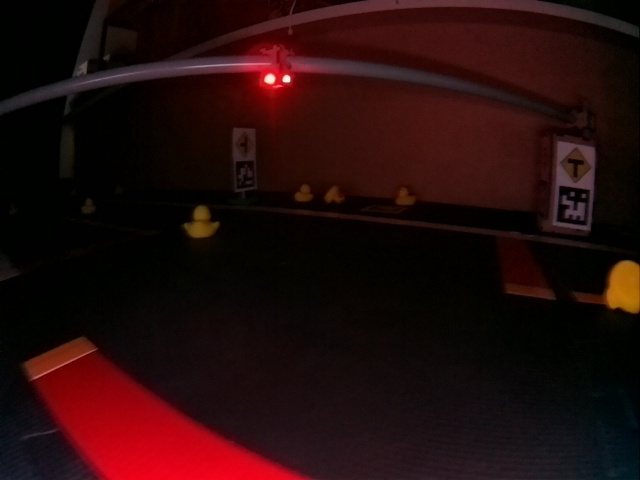Duckie: (605, 262, 639, 312), (183, 205, 218, 239), (395, 187, 416, 205), (326, 185, 344, 204), (294, 184, 312, 201), (81, 199, 95, 213)
Intersection sign: (558, 143, 595, 184), (234, 131, 256, 158)
QR code: (555, 190, 591, 226), (234, 161, 255, 189), (365, 204, 402, 215)
Traffic light: (264, 44, 293, 88)
